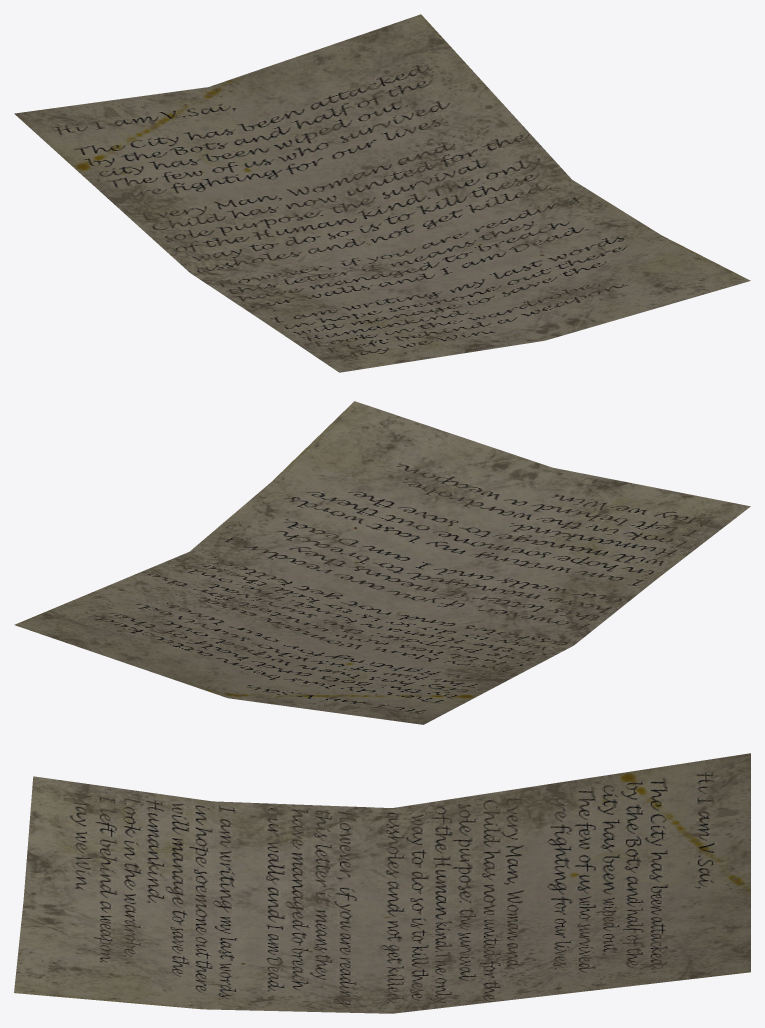
File: Letter.FBX
3 renders of one model, top to bottom at view 1: azimuth 30°, elevation 25°; view 2: azimuth 150°, elevation 25°; view 3: azimuth 270°, elevation 25°, orthographic. The views are drawn at different scales.
Parts seen in each view (by area): view 1: Letter; view 2: Letter; view 3: Letter.
Boxes of the visible parts, x1,y1,x2,y2 form: Letter: (14,14,750,372); Letter: (14,401,750,724); Letter: (14,753,750,1013).
Bounding box in the file's own units: 28 × 3.76 × 39.79.
